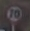limite 70: (4, 4, 24, 24)
